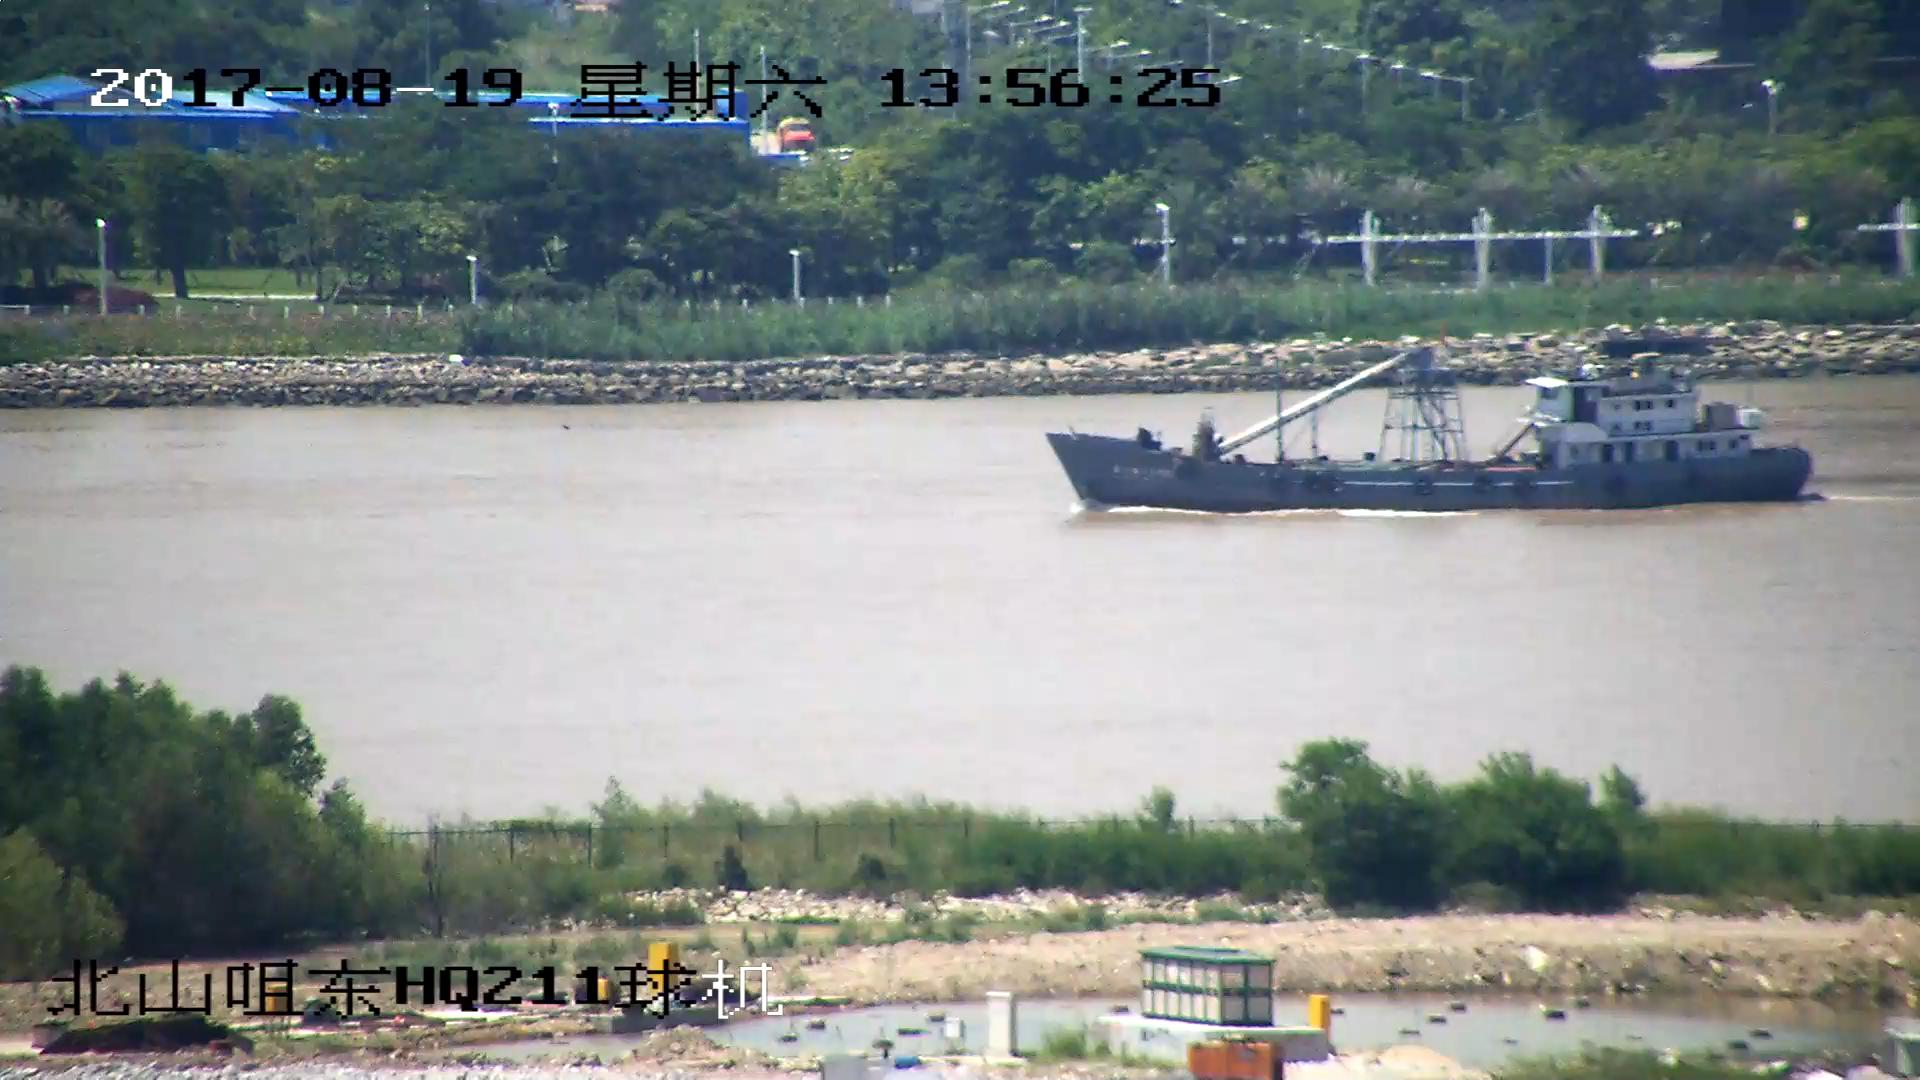fishing boat: (1047, 339, 1809, 513)
